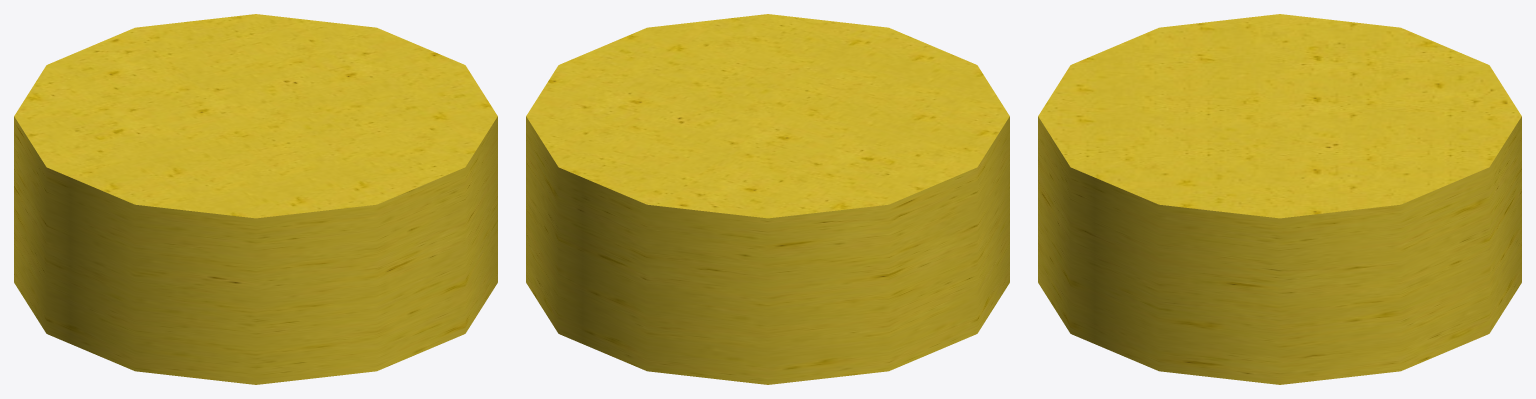
The model's file is banana.fbx.
3 renders of one model, left to right at view 1: azimuth 30°, elevation 25°; view 2: azimuth 150°, elevation 25°; view 3: azimuth 270°, elevation 25°, orthographic.
Parts seen in each view (by area): view 1: тело; view 2: тело; view 3: тело.
Boxes of the visible parts, x1,y1,x2,y2 form: тело: (14,14,497,384); тело: (526,14,1009,384); тело: (1038,14,1521,384).
Size of the model in its own units: 100 by 38 by 100.
Materials: 2 (2 with a texture image).
